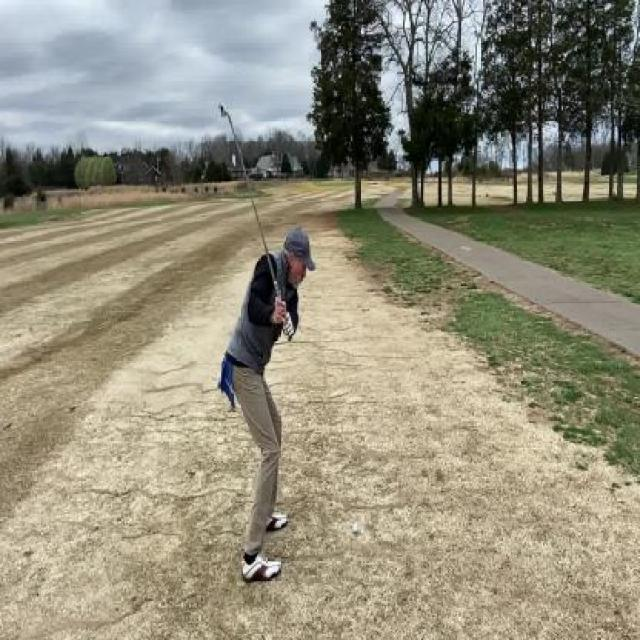club head: (218, 102, 231, 120)
